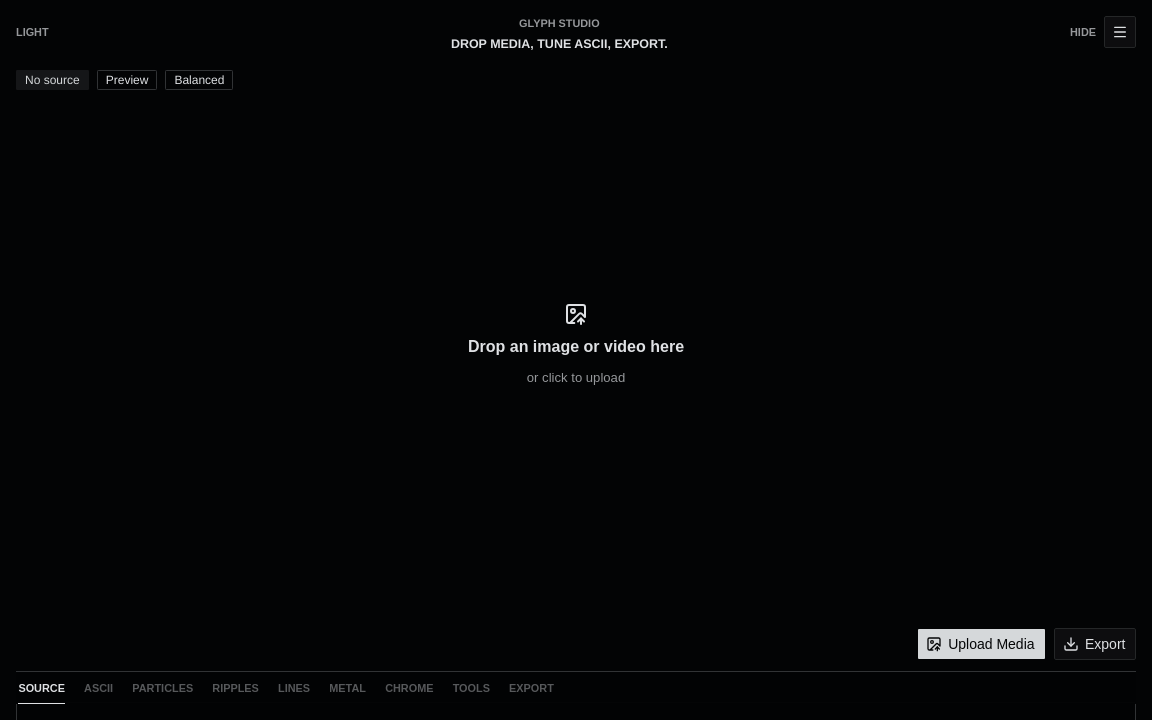
Test case: Glyph Studio app shell › applies metal and chrome presets without exposing unrelated controls
Step 1. Click the button "METAL" → click(348, 688), box [329, 672, 366, 704]
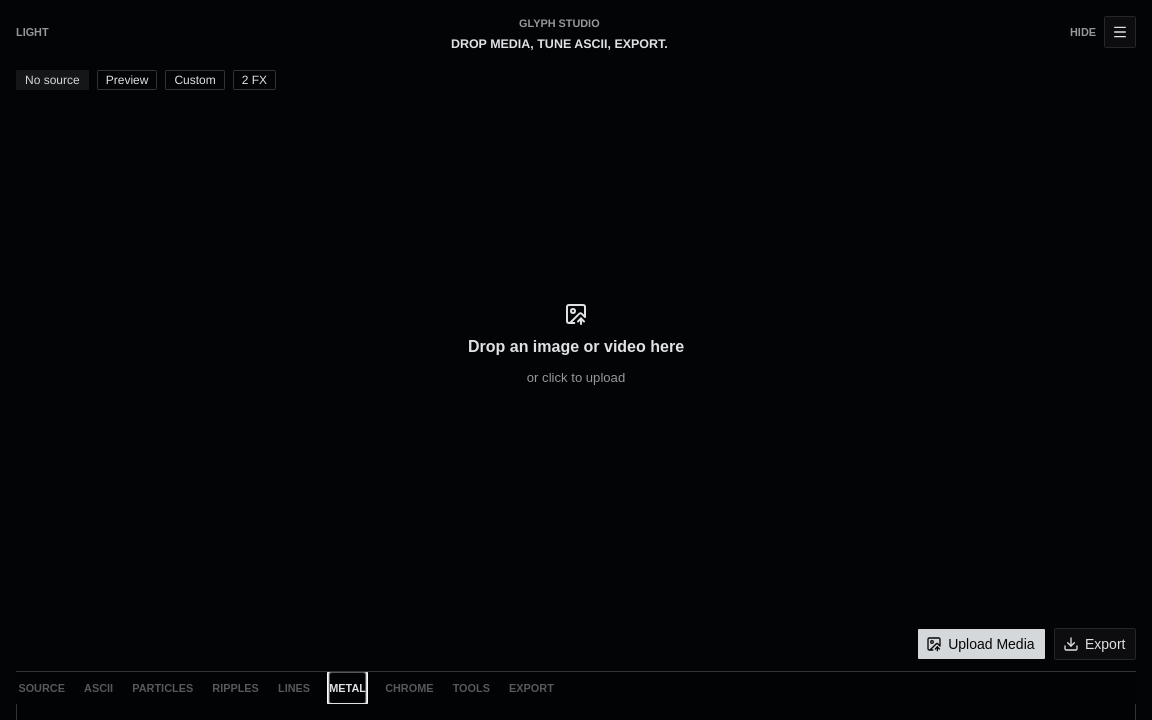
Step 2. Click the button "CHROME" → click(409, 688), box [385, 672, 433, 704]
(page scrolled)
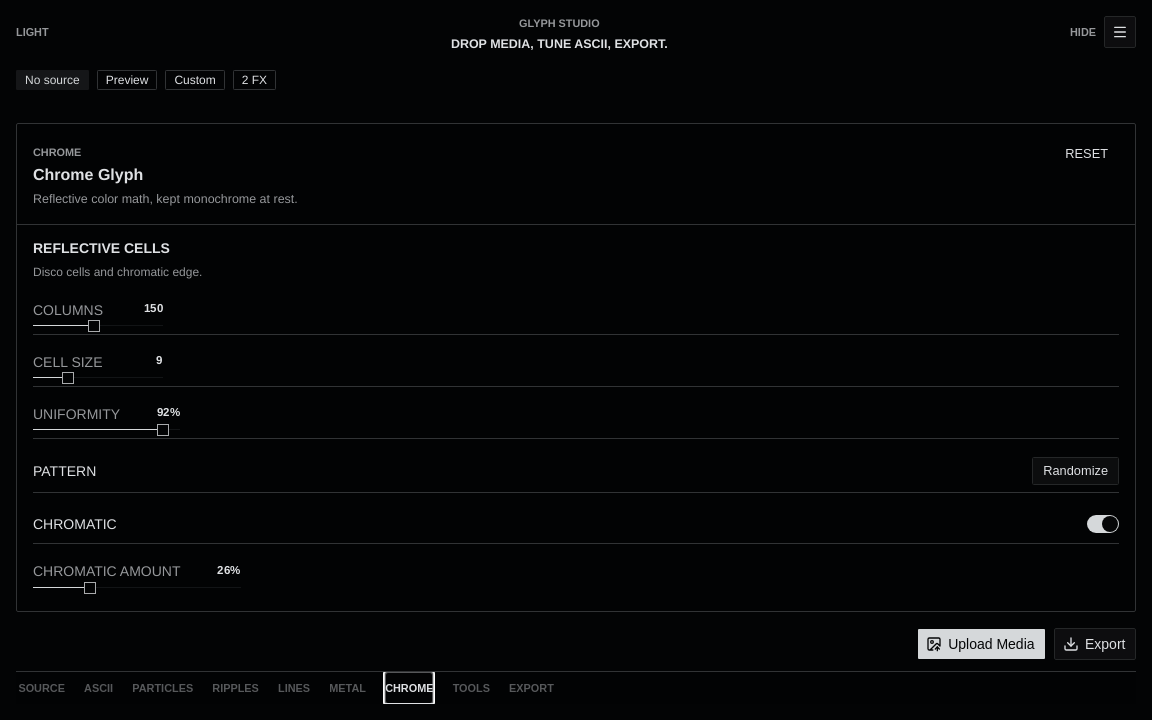
Now the heading "Chrome Glyph" is shown, box [33, 167, 143, 184]
Now the text "Uniformity" is shown, box [33, 407, 120, 421]
Now the switch named "Chromatic" is checked, box [1087, 515, 1119, 533]
